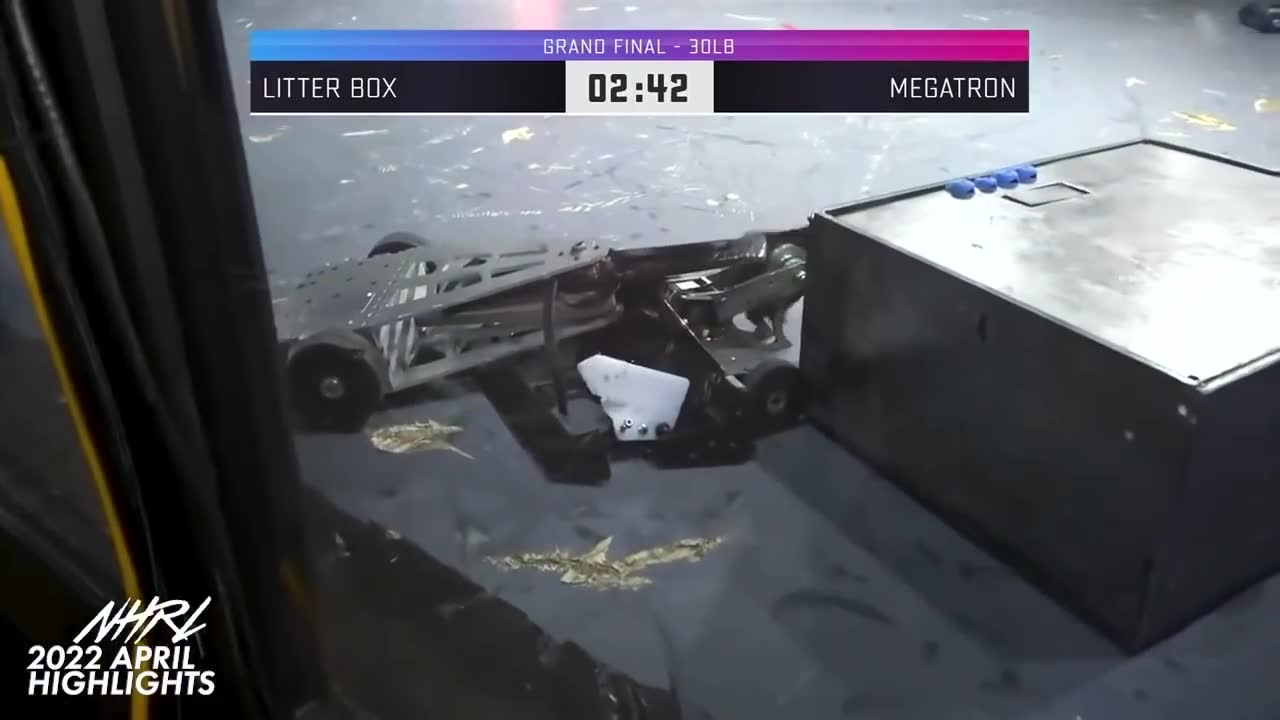combatbot: (261, 228, 626, 442), (551, 217, 813, 490), (1236, 0, 1280, 38)
housebot: (797, 148, 1280, 663)
